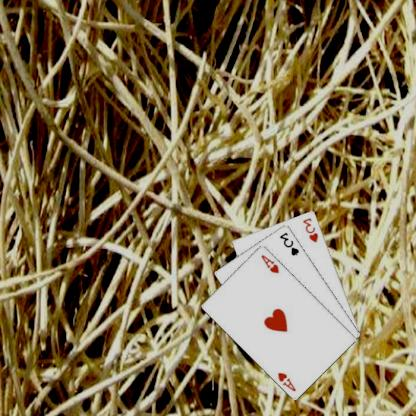3H: (302, 215, 321, 244)
3S: (279, 229, 302, 257)
AH: (260, 252, 282, 275), (277, 370, 299, 392)
